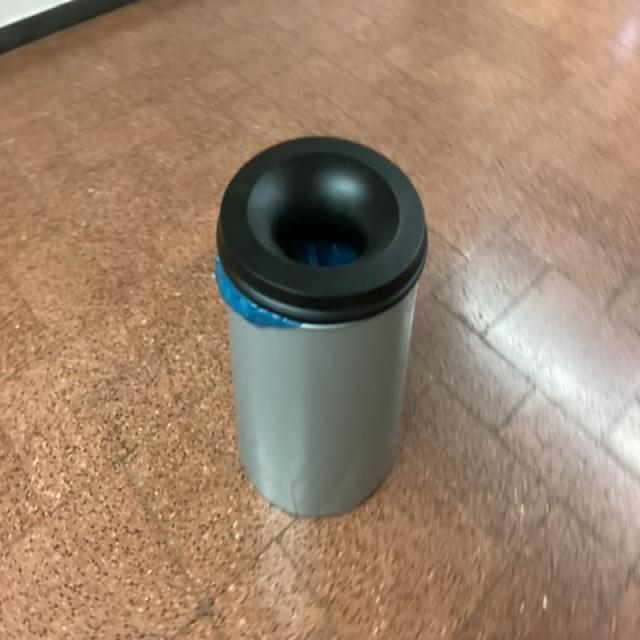garbage container: (203, 100, 452, 535)
